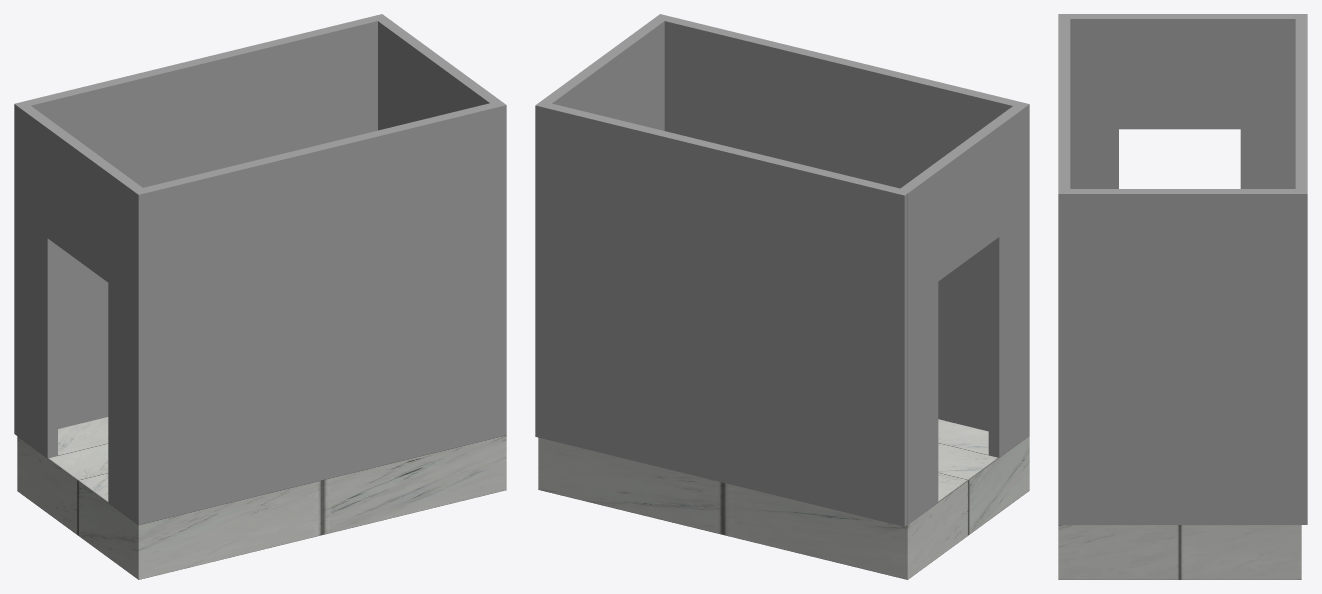
The model's file is Toilet.fbx.
3 views of the same model, side by side, from view 1: azimuth 30°, elevation 25°; view 2: azimuth 150°, elevation 25°; view 3: azimuth 270°, elevation 25° (orthographic).
Visible parts, largest first — view 1: pCube46, pCube29, polySurface8, pCube24, pCube28; view 2: pCube29, pCube46, polySurface8, pCube24, pCube28; view 3: pCube28, polySurface8, pCube24, pCube29, pCube46.
Part boxes in pixels (<box>): pCube46: <box>133,102,506,523</box>; pCube29: <box>14,14,386,435</box>; polySurface8: <box>17,105,148,524</box>; pCube24: <box>17,417,506,579</box>; pCube28: <box>375,16,506,437</box>; pCube29: <box>535,103,910,526</box>; pCube46: <box>655,14,1029,431</box>; polySurface8: <box>900,102,1029,524</box>; pCube24: <box>538,419,1029,579</box>; pCube28: <box>538,14,669,130</box>; pCube28: <box>1058,189,1301,524</box>; polySurface8: <box>1058,14,1301,188</box>; pCube24: <box>1058,525,1301,579</box>; pCube29: <box>1295,14,1307,524</box>; pCube46: <box>1058,14,1070,191</box>.
Size of the model in its own units: 3.5 by 3.5 by 2.05.
